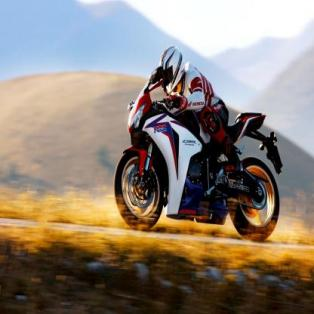Motocicleta: (111, 71, 287, 242)
